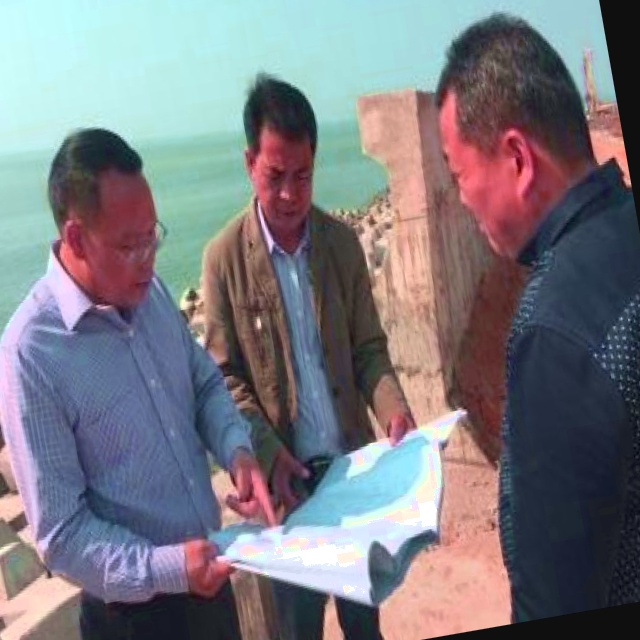Sin_Casco_Mascarrilla: (37, 118, 172, 318), (228, 71, 340, 221)
